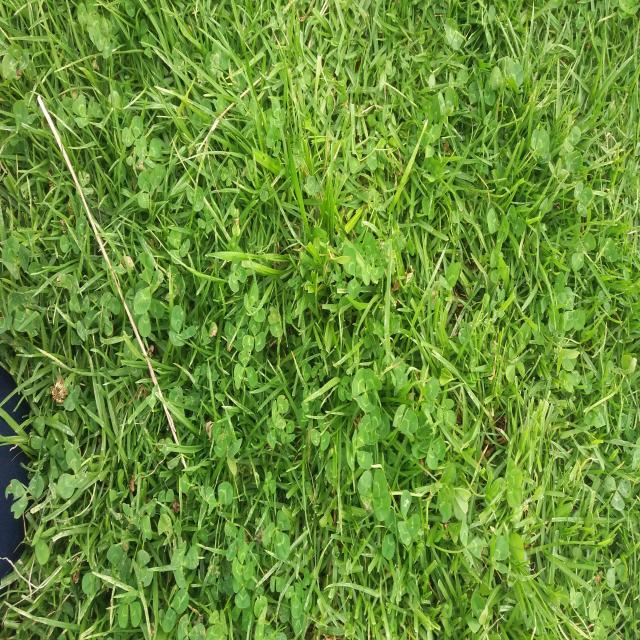Four Leaf Clover: (357, 472, 391, 521), (346, 428, 373, 469), (272, 98, 286, 128), (304, 176, 320, 196)
